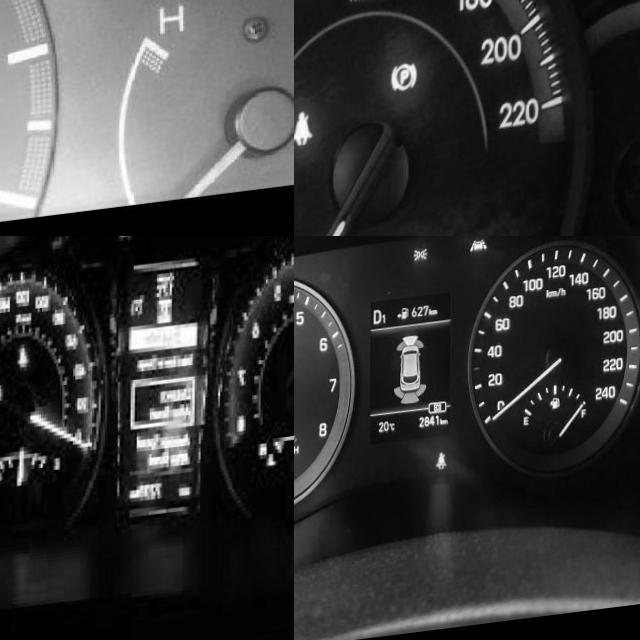Seat Belt: (294, 116, 313, 153), (17, 351, 28, 375)
SideLamp: (413, 256, 428, 272)
